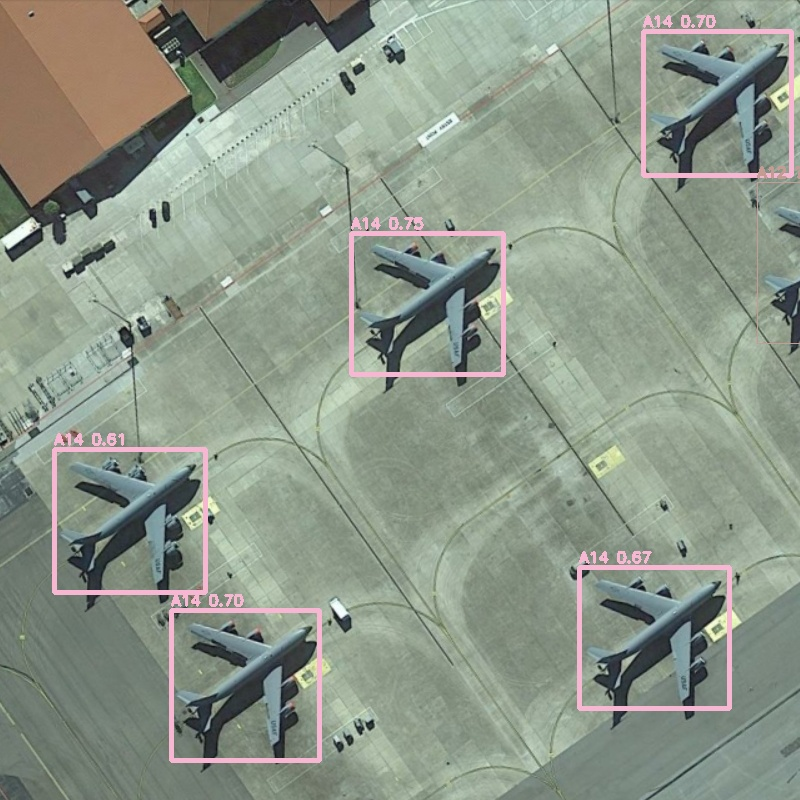A12: (757, 182, 800, 343)
A14: (171, 610, 319, 760), (54, 449, 205, 592), (351, 233, 503, 374), (643, 31, 791, 175), (579, 567, 729, 708)
